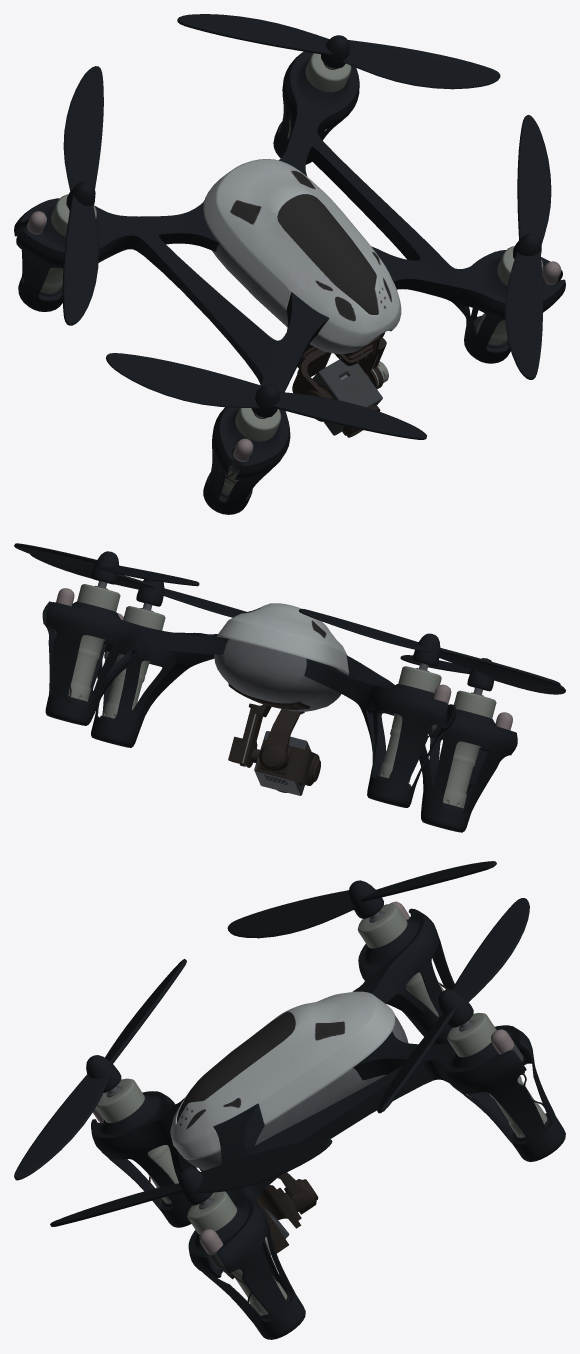
The model's file is Drone-Mark-IV_5706_39812.glb.
3 renders of one model, top to bottom at view 1: azimuth 30°, elevation 25°; view 2: azimuth 150°, elevation 25°; view 3: azimuth 270°, elevation 25°, orthographic. The views are drawn at different scales.
Visible parts, largest first — view 1: node_id30; view 2: node_id30; view 3: node_id30.
Part boxes in pixels (x1,y1,x2,y2): node_id30: (14,14,565,514); node_id30: (14,543,565,832); node_id30: (14,861,565,1339).
Size of the model in its own units: 0.5034 by 0.3295 by 0.4312.
1 material, 1 textured.
